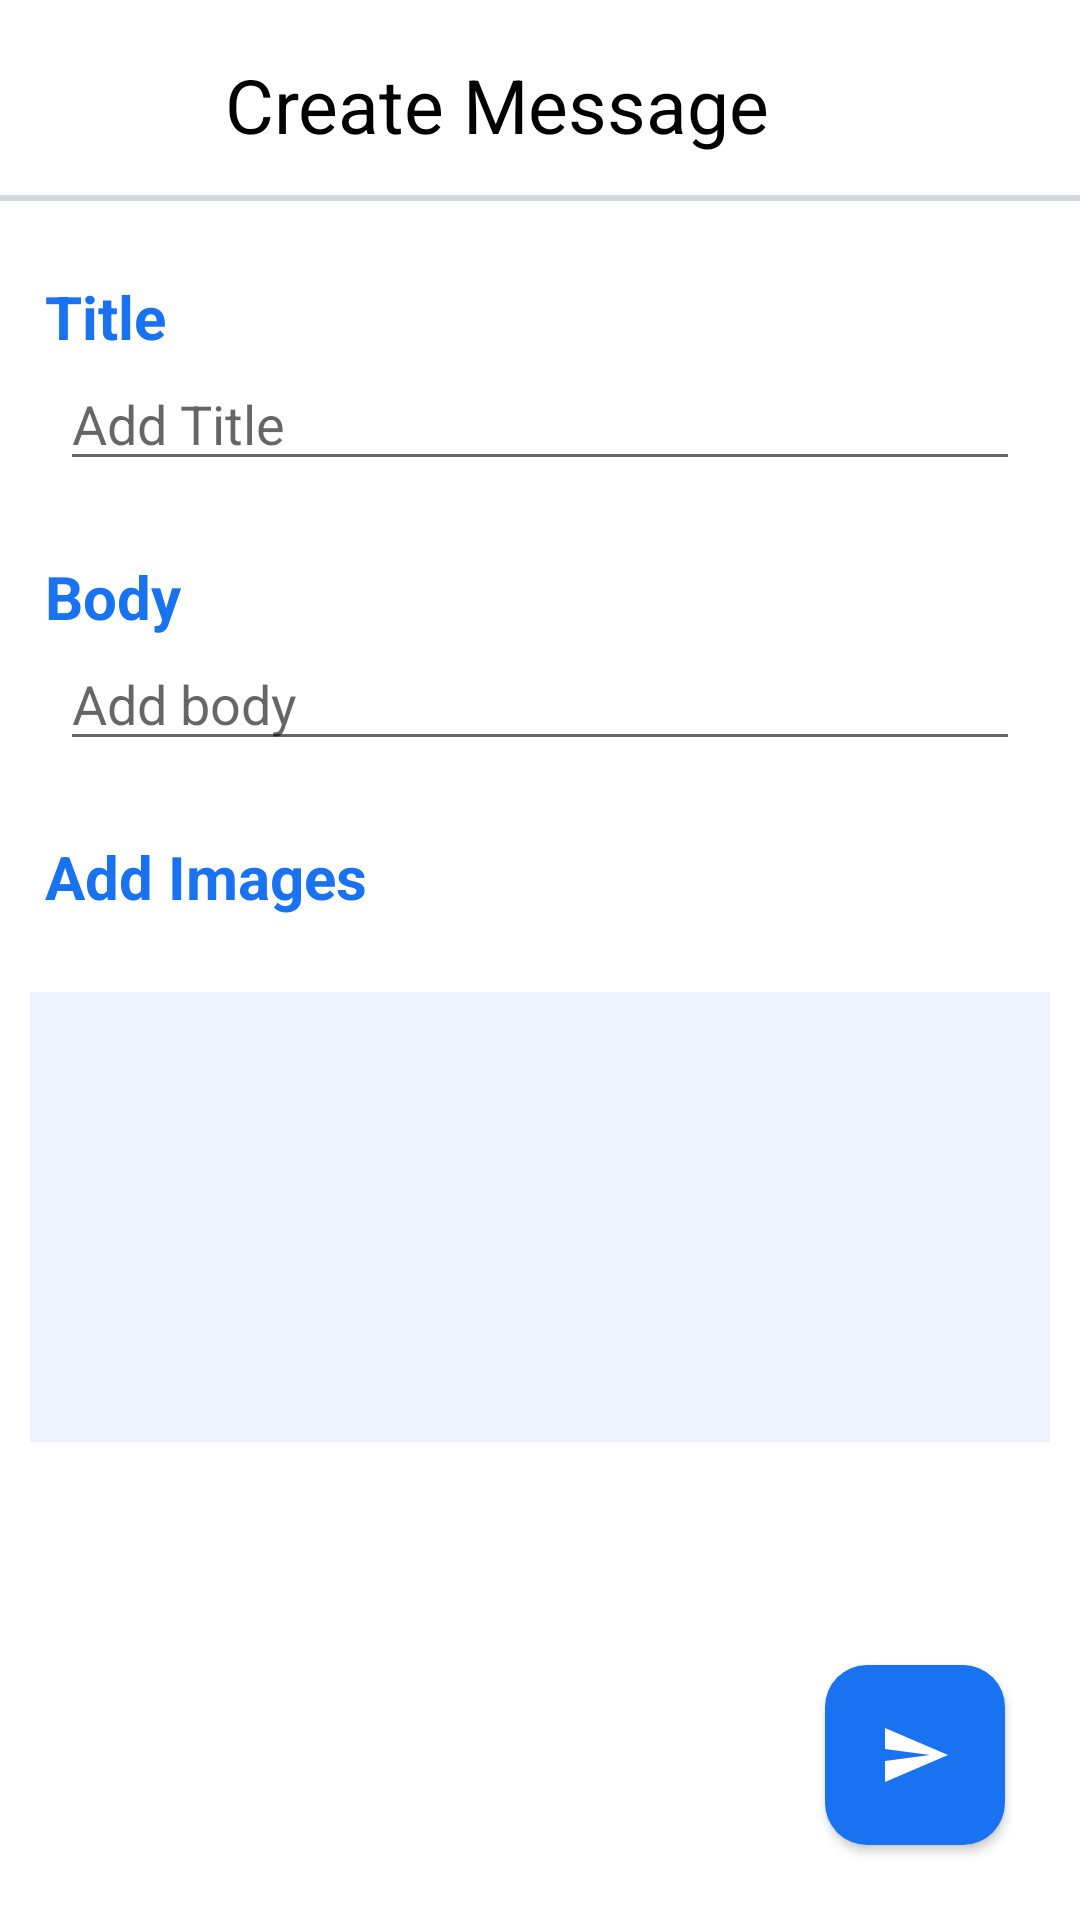

Screen size 1080 × 1920. Icon name, then its box in pixels as (x1, y1, x2, y2):
send 24white: (825, 1665, 1005, 1845)
